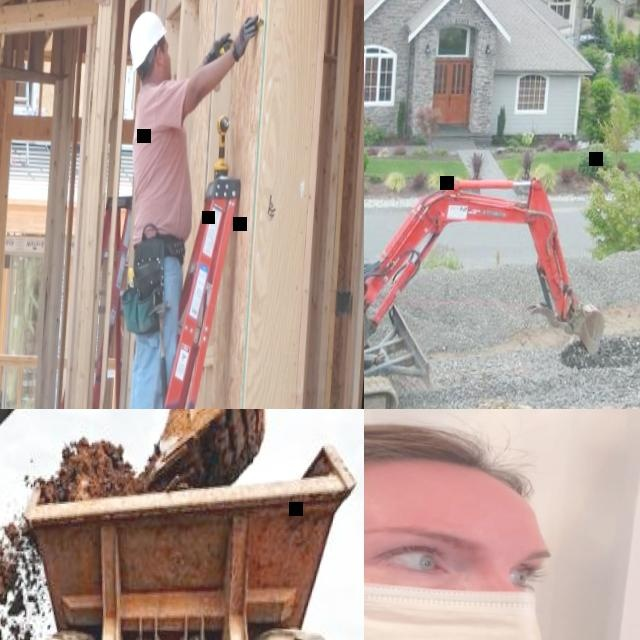Hardhat: (128, 10, 168, 75)
Mask: (364, 535, 553, 640)
NO-Hardhat: (364, 410, 540, 531)
NO-Mask: (160, 53, 172, 78)
NO-Safety Vest: (128, 81, 201, 237)
Person: (364, 409, 640, 640), (106, 7, 258, 409)
machinery: (1, 423, 364, 640), (0, 409, 278, 640), (364, 158, 616, 409)
